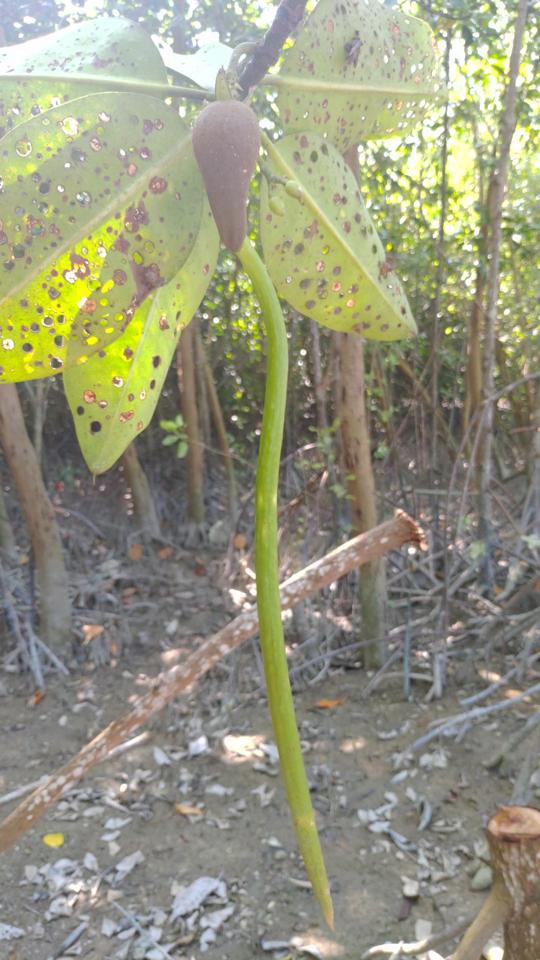mentah: (191, 67, 357, 948)
